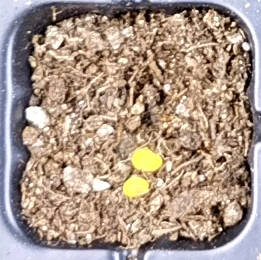chilli seed: (130, 147, 162, 171), (122, 176, 150, 196)
